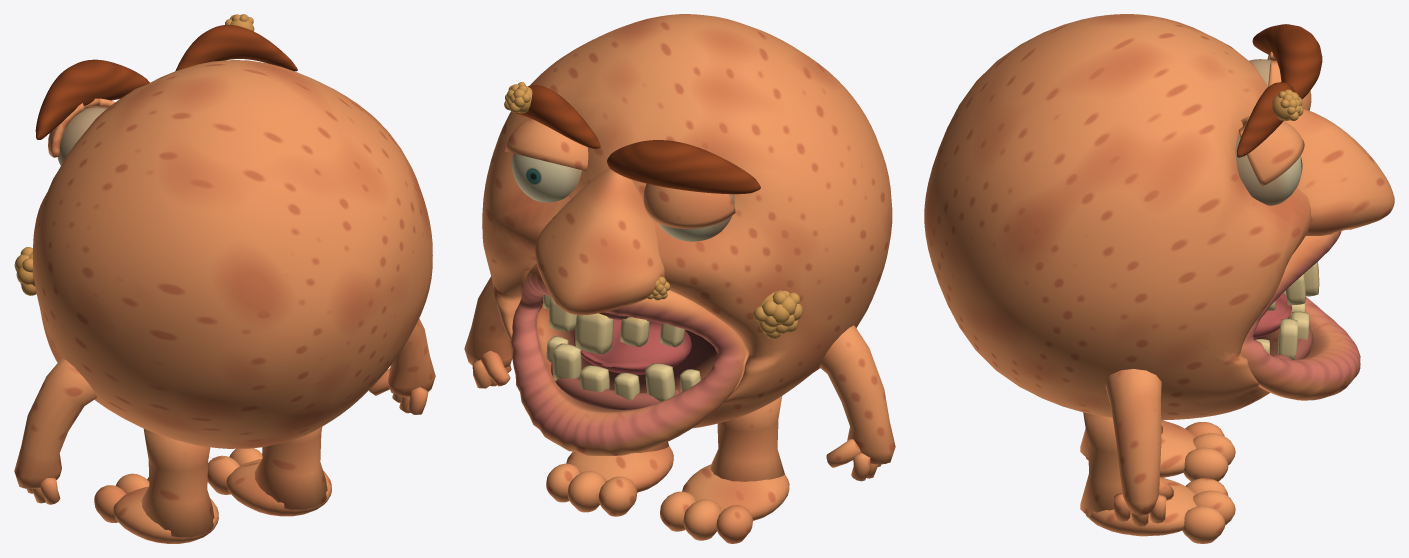
3 renders of one model, left to right at view 1: azimuth 30°, elevation 25°; view 2: azimuth 150°, elevation 25°; view 3: azimuth 270°, elevation 25°, orthographic. The views are drawn at different scales.
Bounding box in the file's own units: 0.976 × 1 × 0.9152.
7 materials, 7 textured.
